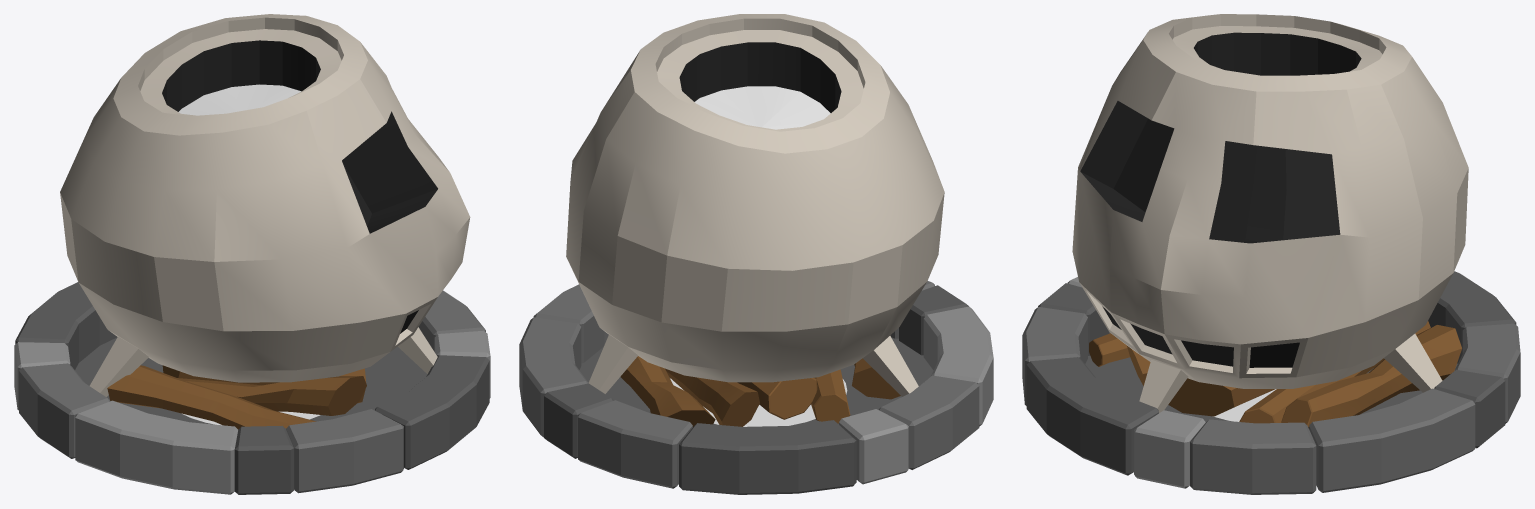
Rendered from caldero hueso.fbx.
3 renders of one model, left to right at view 1: azimuth 30°, elevation 25°; view 2: azimuth 150°, elevation 25°; view 3: azimuth 270°, elevation 25°, orthographic. The views are drawn at different scales.
Parts seen in each view (by area): view 1: Cylinder.002; view 2: Cylinder.002; view 3: Cylinder.002.
Boxes of the visible parts, <box> form: Cylinder.002: <box>14,14,490,494</box>; Cylinder.002: <box>519,14,993,494</box>; Cylinder.002: <box>1022,14,1520,494</box>.
Bounding box in the file's own units: 343 × 275 × 343.
